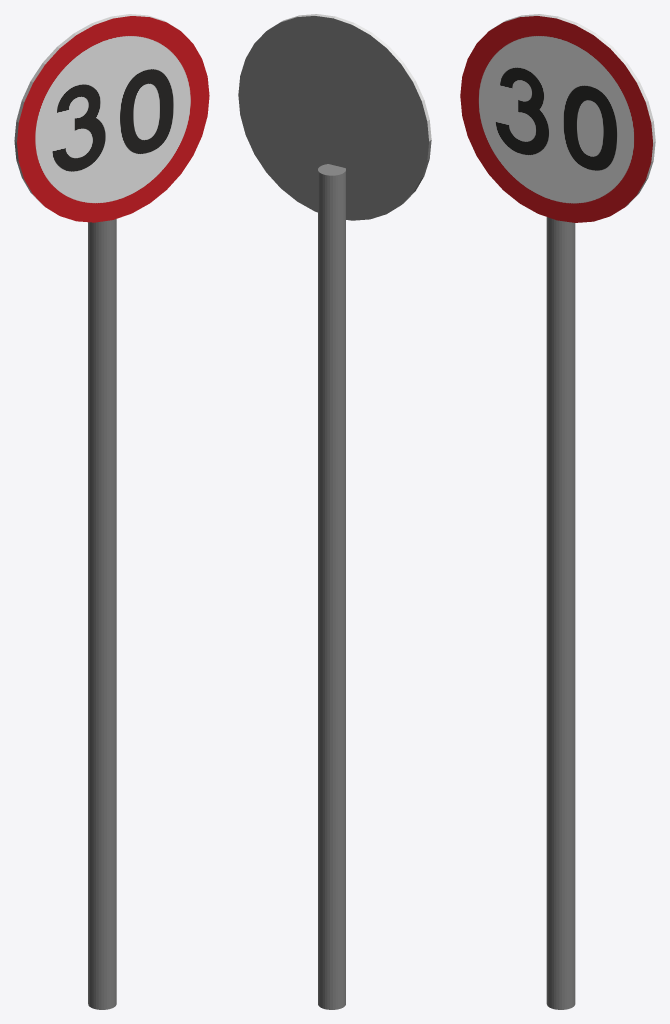
Rendered from objekts1-road-sign1.glb.
The picture shows the model from 3 angles, left to right: view 1: azimuth 30°, elevation 25°; view 2: azimuth 150°, elevation 25°; view 3: azimuth 330°, elevation 25°; orthographic projection.
Parts seen in each view (by area): view 1: Cylinder.002; view 2: Cylinder.002; view 3: Cylinder.002.
Part boxes in pixels (x1,y1,x2,y2): Cylinder.002: (14,14,209,1009); Cylinder.002: (238,14,431,1009); Cylinder.002: (460,14,655,1009).
Size of the model in its own units: 2 by 9.83 by 0.2649.
1 material, 1 textured.
